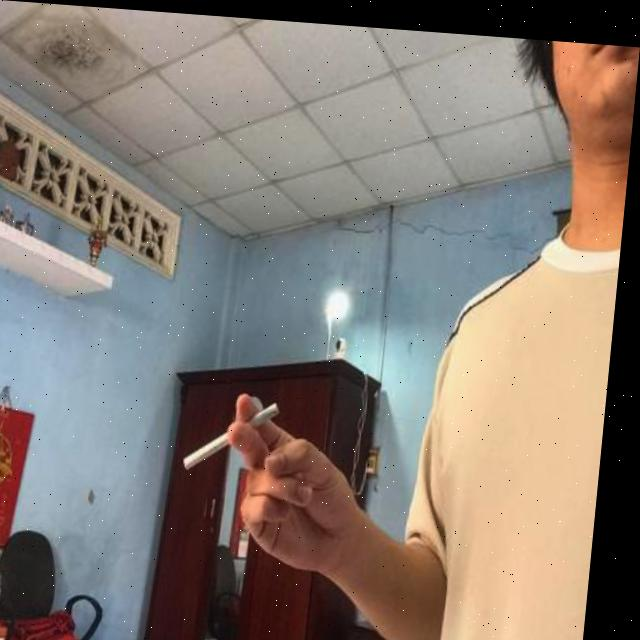cigarette: (187, 390, 289, 480)
